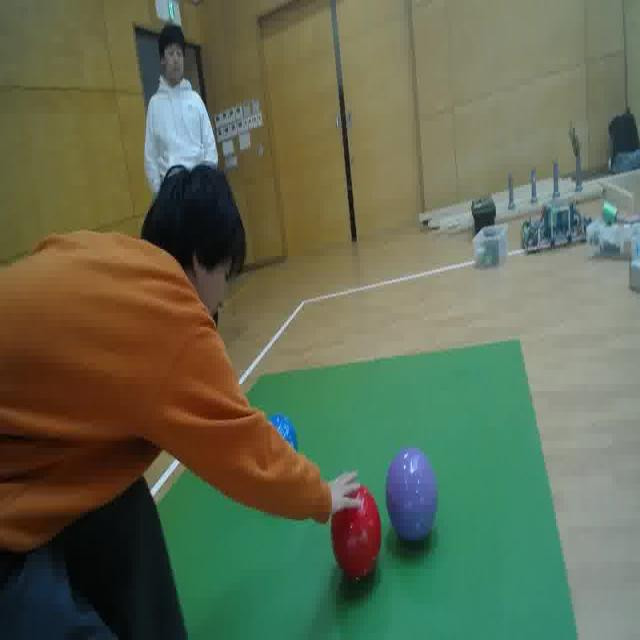blue_ball: (266, 412, 298, 470)
purple_ball: (378, 438, 440, 544)
red_ball: (326, 487, 386, 593)
